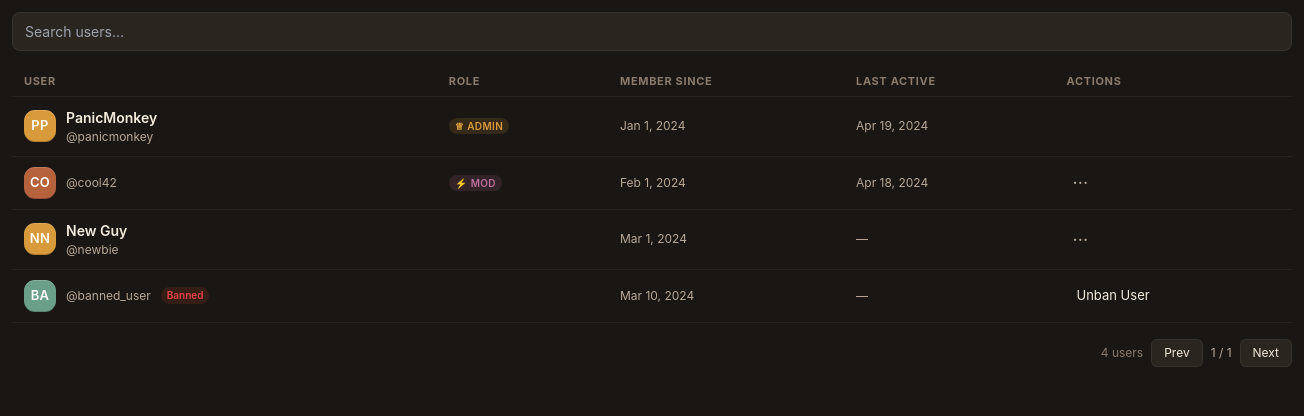
Scenario: UserTable — rendering › labels row action controls with the username
Expected: the button named "Open actions for @newbie" is shown, x1=1066 y1=224 x2=1094 y2=254
Expected: the button with aria-label "Unban @banned_user" is shown, x1=1066 y1=280 x2=1280 y2=311
Click the button named "Open actions for @cool42".
click(1080, 182)  # box x1=1066 y1=167 x2=1094 y2=198
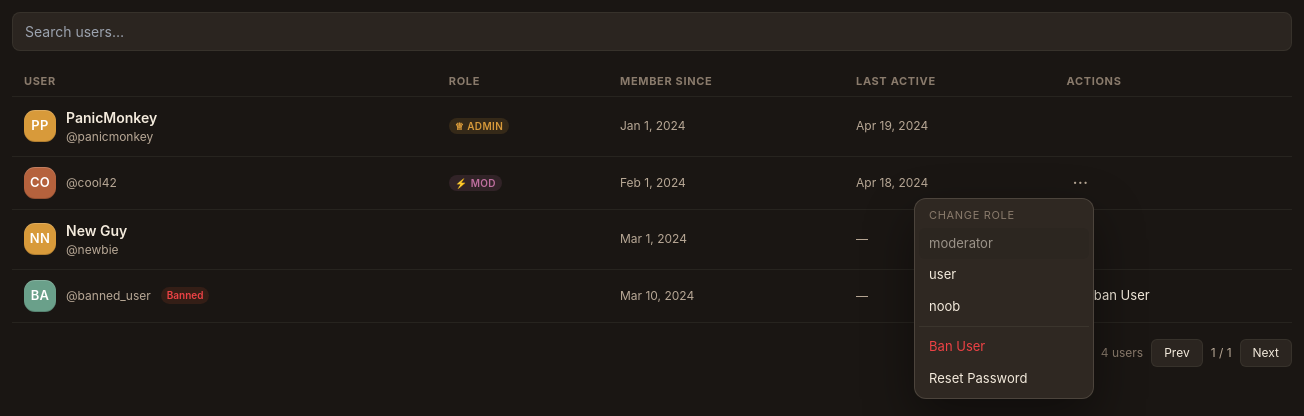
Now the button with aria-label "Change @cool42 role to moderator" is disabled, box x1=919 y1=228 x2=1089 y2=259
Now the button with aria-label "Change @cool42 role to user" is enabled, box x1=919 y1=259 x2=1089 y2=290
Now the button with aria-label "Ban @cool42" is shown, box x1=919 y1=331 x2=1089 y2=362
